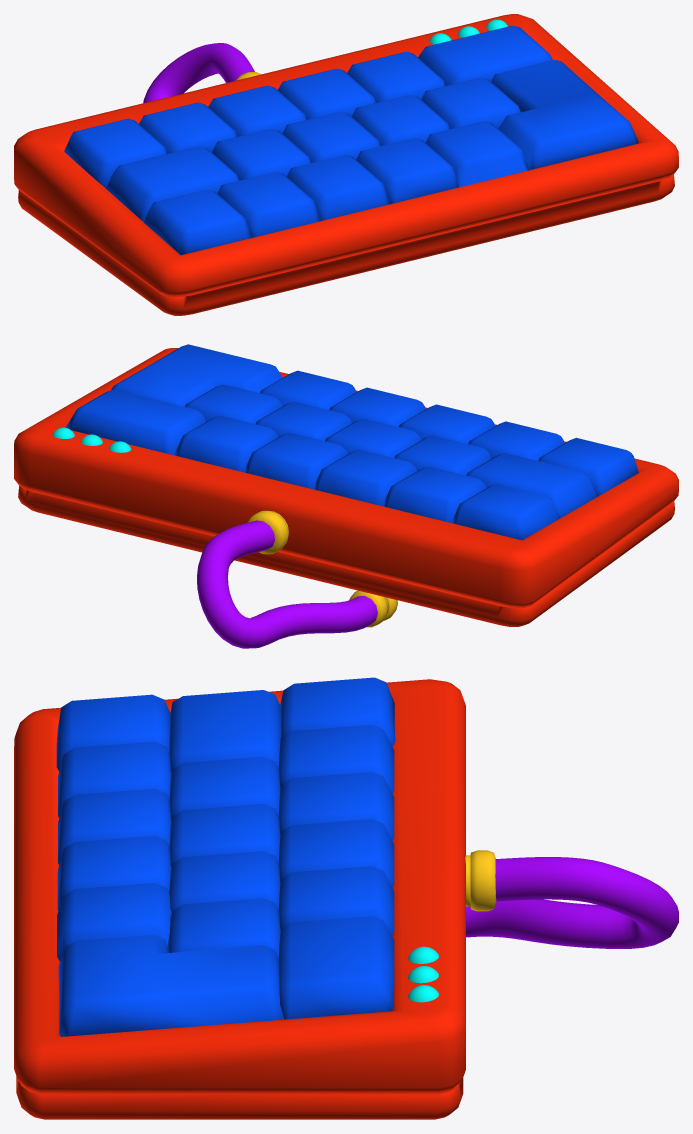
File: keyboard.fbx
The picture shows the model from 3 angles, top to bottom: view 1: azimuth 30°, elevation 25°; view 2: azimuth 150°, elevation 25°; view 3: azimuth 270°, elevation 25°; orthographic projection. The views are drawn at different scales.
Parts seen in each view (by area): view 1: light1Outline; view 2: light1Outline; view 3: light1Outline.
Part boxes in pixels (left/top/right/bottom): light1Outline: left=14, top=14, right=678, bottom=315; light1Outline: left=14, top=344, right=678, bottom=648; light1Outline: left=14, top=677, right=678, bottom=1119.
Bounding box in the file's own units: 1498 × 360 × 1193.
